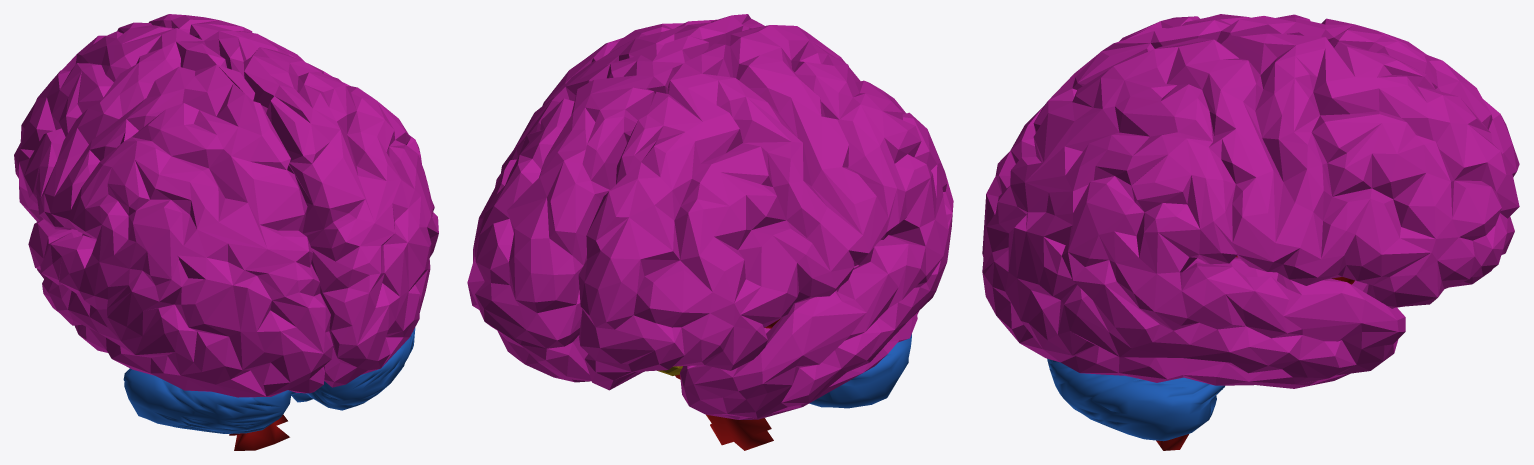
File: Brain.obj
3 views of the same model, side by side, from view 1: azimuth 30°, elevation 25°; view 2: azimuth 150°, elevation 25°; view 3: azimuth 270°, elevation 25° (orthographic). The views are drawn at different scales.
Visible parts, largest first — view 1: Brain_2, Brain_1, Cerebellum, Stem; view 2: Brain_2, Brain_1, Cerebellum, Stem; view 3: Brain_1, Brain_2, Cerebellum.
Part boxes in pixels (<box>): Brain_2: <box>14,22,333,397</box>; Brain_1: <box>148,14,438,387</box>; Cerebellum: <box>123,327,415,433</box>; Stem: <box>229,414,289,450</box>; Brain_2: <box>578,25,953,419</box>; Brain_1: <box>467,14,764,382</box>; Cerebellum: <box>809,334,911,408</box>; Stem: <box>675,318,780,450</box>; Brain_1: <box>982,33,1519,388</box>; Brain_2: <box>982,14,1519,257</box>; Cerebellum: <box>1047,358,1224,441</box>.
Size of the model in its own units: 153 by 162 by 191.
